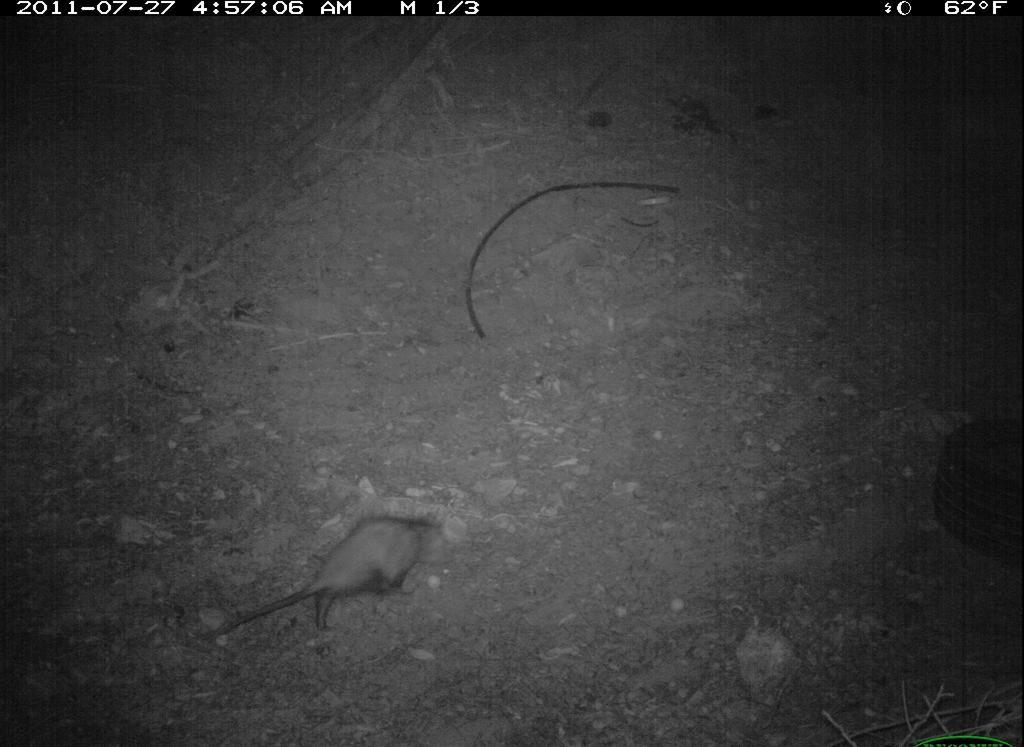opossum: (172, 511, 461, 660)
